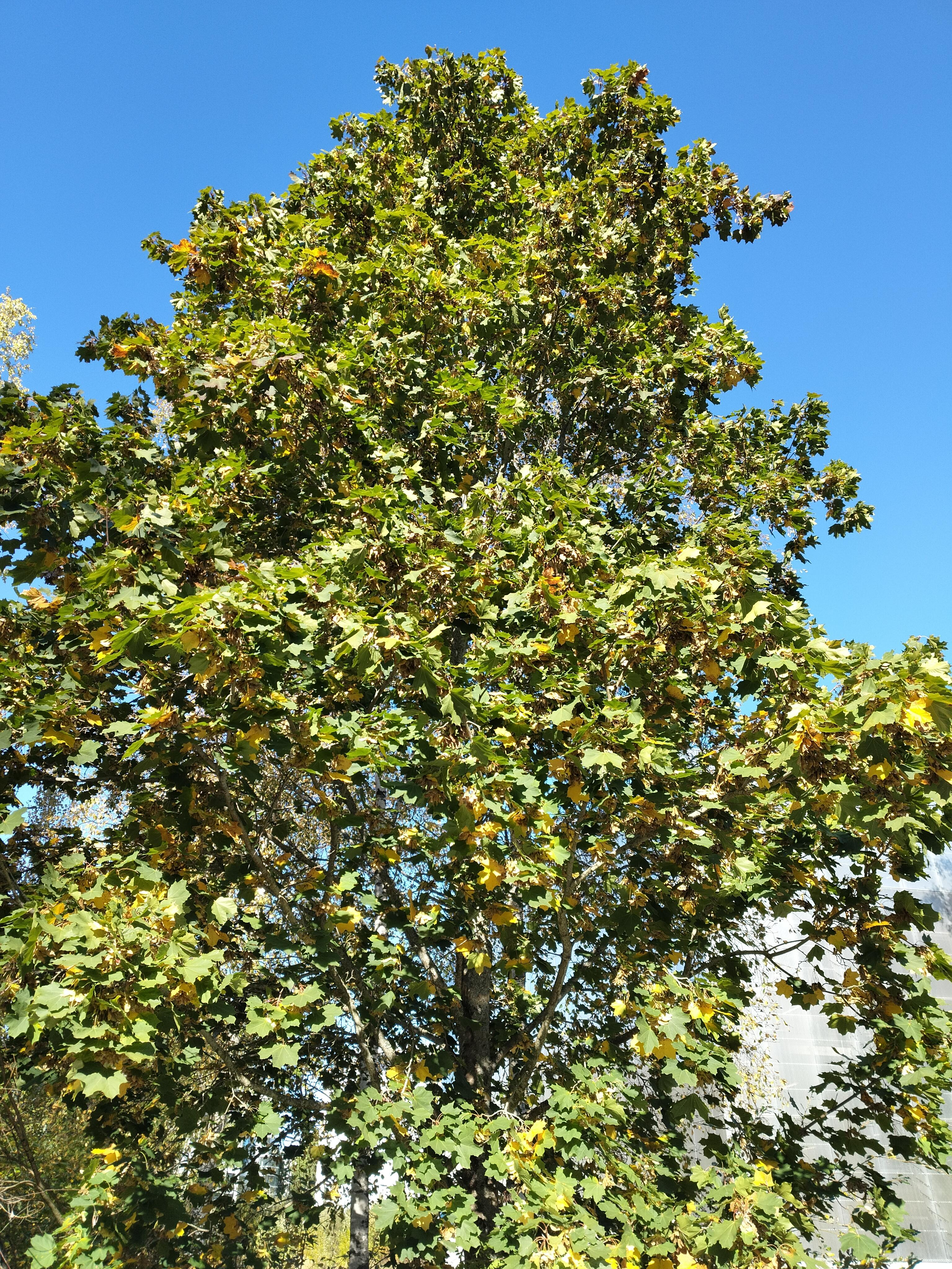Maple: (1, 43, 950, 1267)
